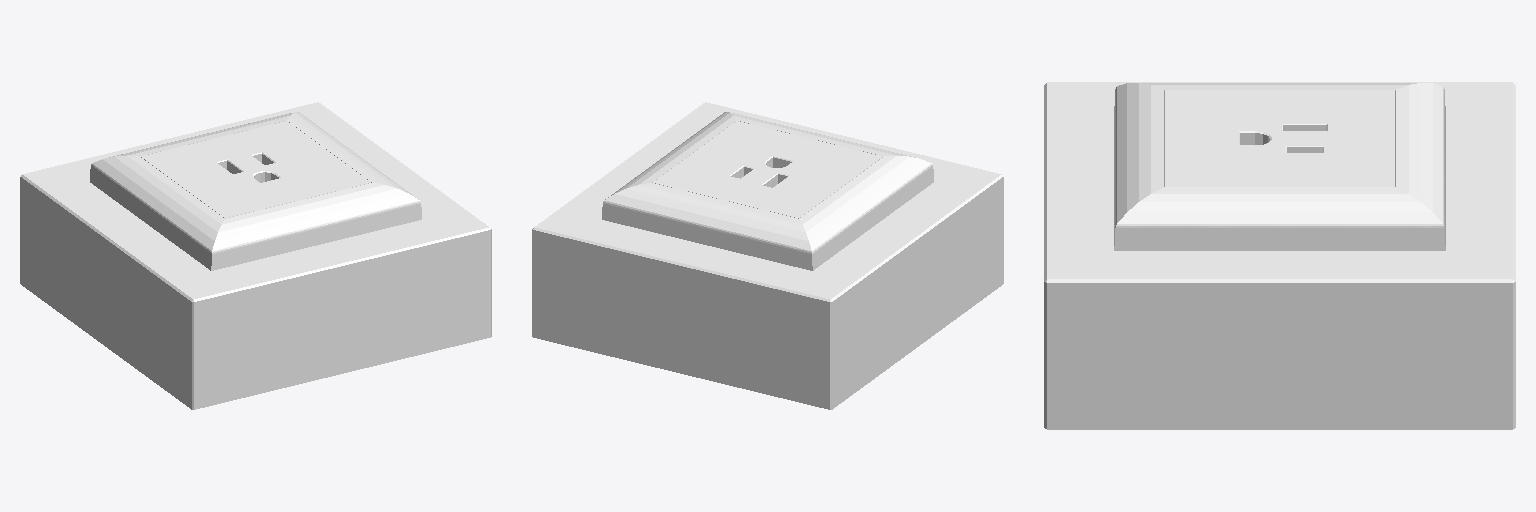
The robot description file, URDF, robot "Socket_US":
<?xml version="1.0" ?>
<robot name="Socket_US">
 <link concave="yes" name="baseLink">
   <contact>
     <lateral_friction value="0.5"/>
   </contact>
   <inertial>
     <origin rpy="0 0 0" xyz="0.0 0.0 0.0"/>
      <mass value="1.0"/>
      <inertia ixx="0" ixy="0" ixz="0" iyy="0" iyz="0" izz="0"/>
   </inertial>
   <visual>
     <origin rpy="0 0 0" xyz="0 0 0"/>
     <geometry>
       <mesh filename="package://bopt_gmm/objects/electrical_plugs/Socket_US.obj" scale="1.0 1.0 1.0"/>
     </geometry>
      <material name="white">
       <color rgba="1 1 1 1"/>
     </material>
   </visual>
   <collision concave="yes">
     <origin rpy="0 0 0" xyz="0 0 0"/>
     <geometry>
       <mesh filename="package://bopt_gmm/objects/electrical_plugs/Socket_US.obj" scale="1.0 1.0 1.0"/>
     </geometry>
   </collision>
 </link>
</robot>

--- Render facts (derived) ---
3 views of the same robot in one strip: view 1: azimuth 30°, elevation 25°; view 2: azimuth 150°, elevation 25°; view 3: azimuth 270°, elevation 25° (orthographic).
Model Socket_US with 1 links and 0 joints (none), rooted at baseLink, posed every joint at zero.
Links seen in each view (by area): view 1: baseLink; view 2: baseLink; view 3: baseLink.
Link boxes in pixels (left/top/right/bottom): baseLink: left=20, top=102, right=491, bottom=409; baseLink: left=532, top=102, right=1003, bottom=409; baseLink: left=1044, top=82, right=1515, bottom=429.
Size in the robot's own frame: 0.1145 by 0.1145 by 0.0514 metres.
1 mesh visuals loaded from 1 distinct referenced files (1 OBJ).